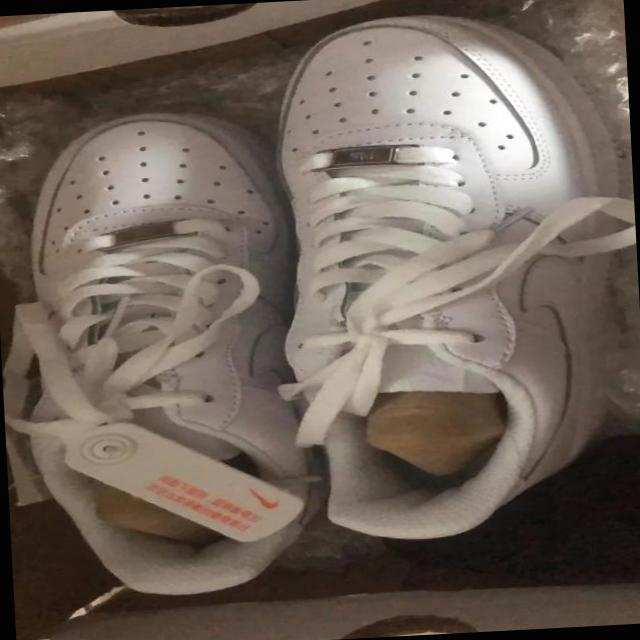nike_fake_airforce: (259, 4, 636, 550), (3, 102, 328, 600)
